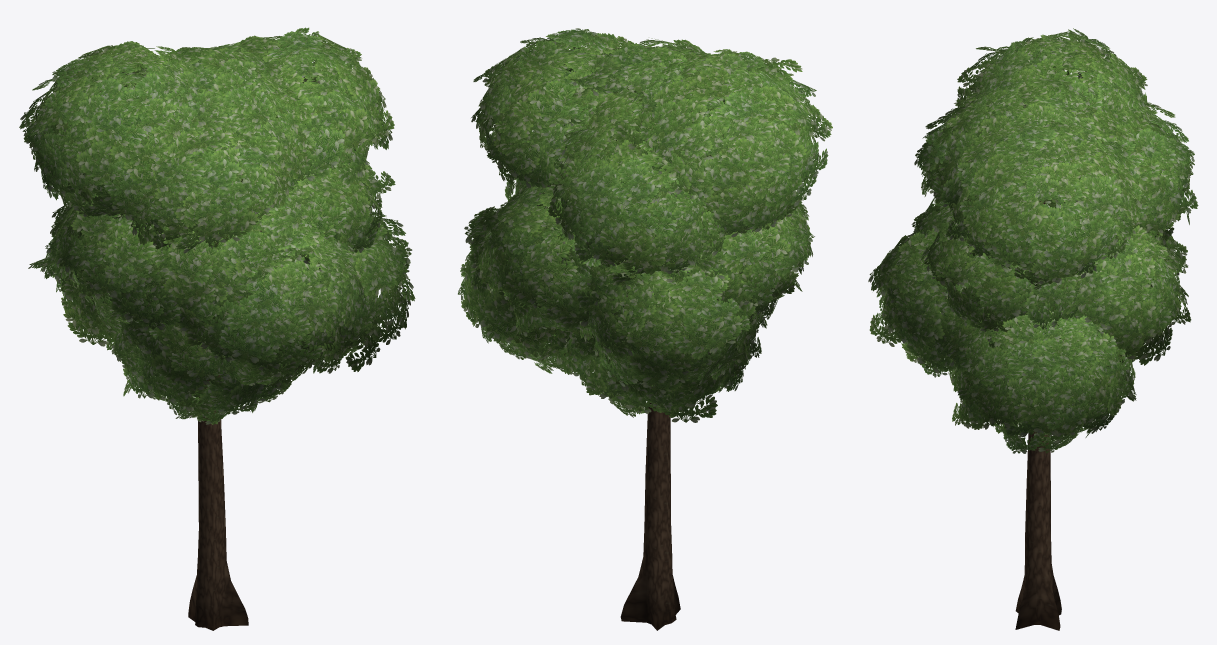
Rendered from sundari_a.glb.
3 renders of one model, left to right at view 1: azimuth 30°, elevation 25°; view 2: azimuth 150°, elevation 25°; view 3: azimuth 270°, elevation 25°, orthographic. The views are drawn at different scales.
Parts seen in each view (by area): view 1: leaves, wood; view 2: leaves, wood; view 3: leaves, wood.
Boxes of the visible parts, x1,y1,x2,y2 form: leaves: (19,27,415,424); wood: (188,164,261,630); leaves: (458,28,832,422); wood: (607,155,711,630); leaves: (868,28,1198,453); wood: (1015,200,1061,630).
Bounding box in the file's own units: 7.71 × 11.94 × 6.58.
2 materials, 2 textured.
